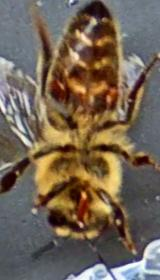varroa_mite: (93, 74, 125, 110), (43, 74, 71, 108)
